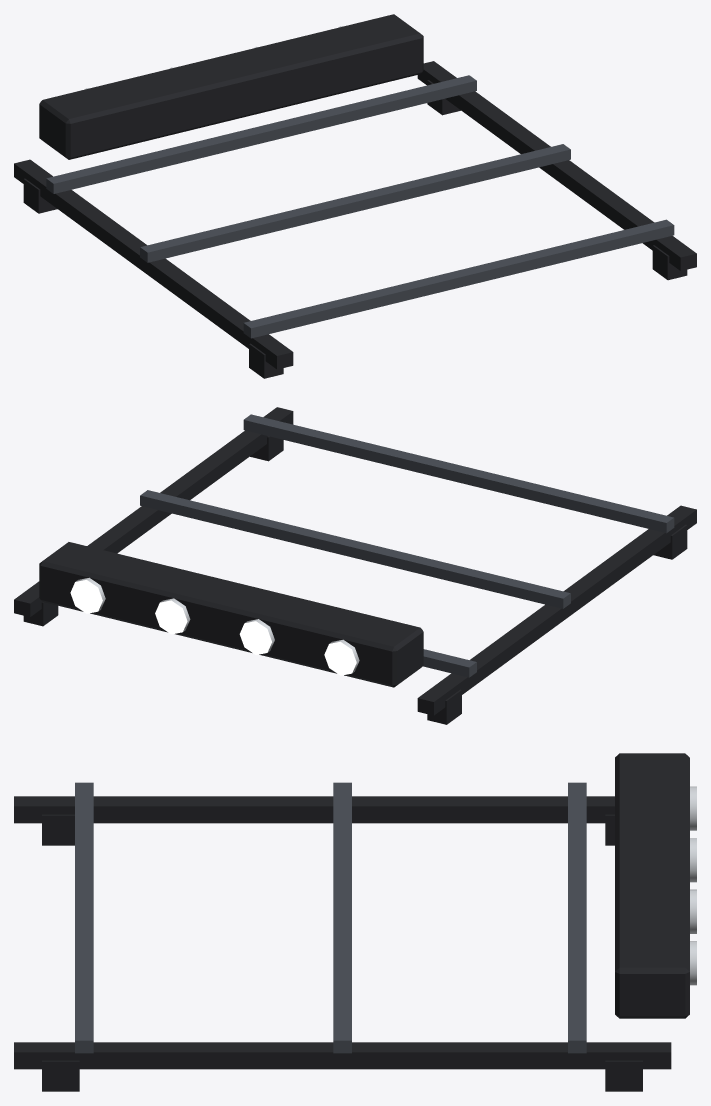
The model's file is roof_rack.glb.
3 renders of one model, top to bottom at view 1: azimuth 30°, elevation 25°; view 2: azimuth 150°, elevation 25°; view 3: azimuth 270°, elevation 25°, orthographic. The views are drawn at different scales.
Parts seen in each view (by area): view 1: roof_rack__mesh; view 2: roof_rack__mesh; view 3: roof_rack__mesh.
Part boxes in pixels (left/top/right/bottom): roof_rack__mesh: left=14, top=14, right=696, bottom=378; roof_rack__mesh: left=14, top=407, right=696, bottom=724; roof_rack__mesh: left=14, top=753, right=696, bottom=1091.
Bounding box in the file's own units: 1.3 × 0.24 × 1.45.
2 materials, 1 textured.
